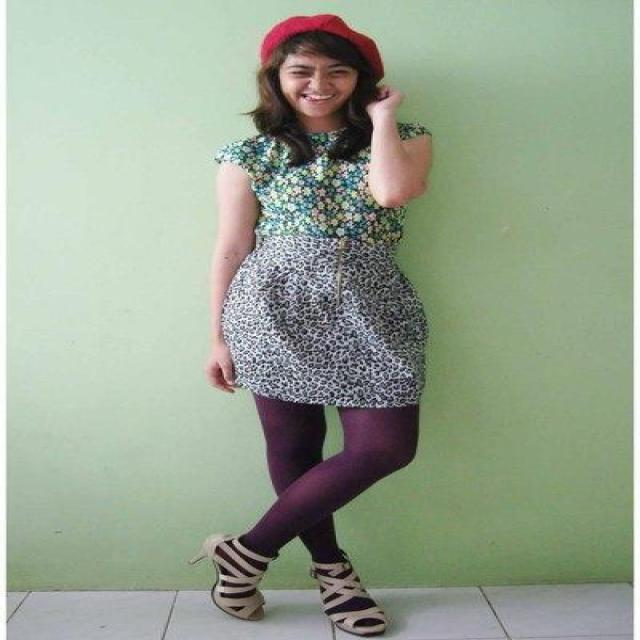dress: (211, 129, 427, 421)
hat: (261, 15, 373, 63)
shoe: (194, 531, 382, 639)
